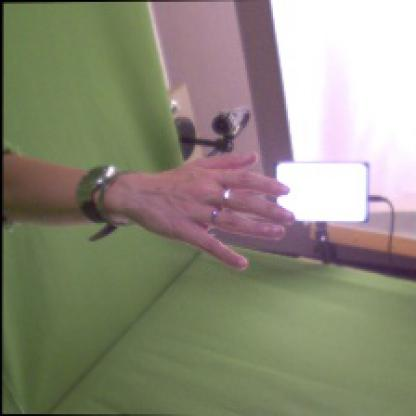Hand: (134, 153, 296, 273)
